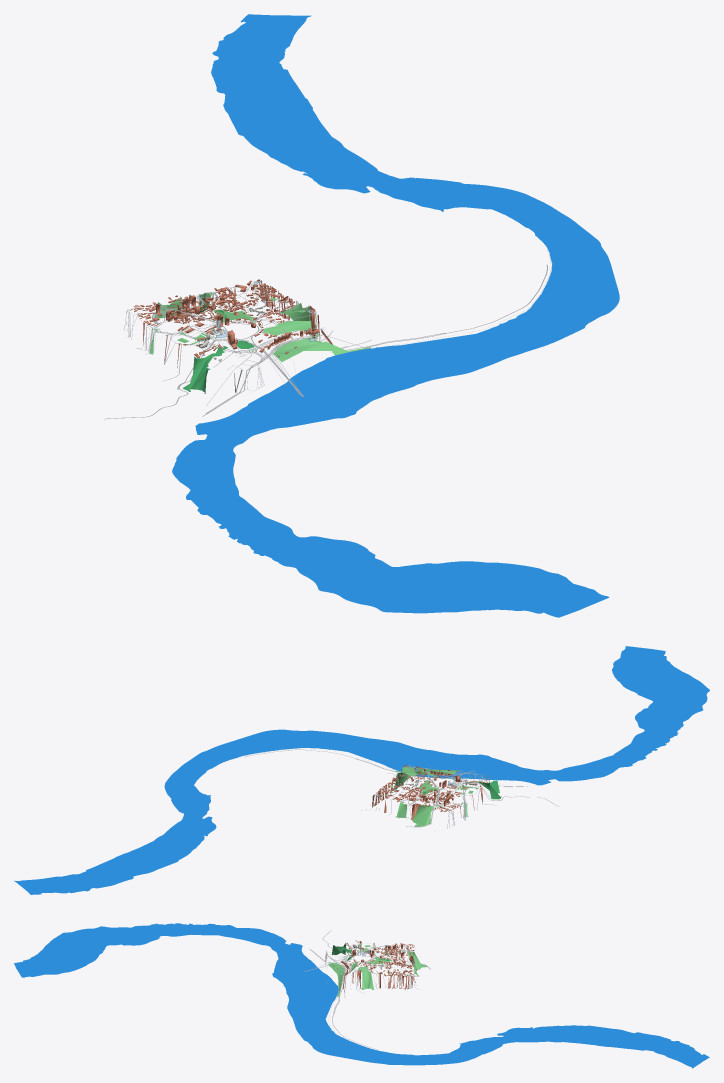
The model's file is output_soil.glb.
3 renders of one model, top to bottom at view 1: azimuth 30°, elevation 25°; view 2: azimuth 150°, elevation 25°; view 3: azimuth 270°, elevation 25°, orthographic. The views are drawn at different scales.
Parts seen in each view (by area): view 1: water/9087399; view 2: water/9087399; view 3: water/9087399.
Boxes of the visible parts, left/top/right/bottom form: water/9087399: left=172, top=14, right=619, bottom=617; water/9087399: left=14, top=646, right=709, bottom=894; water/9087399: left=14, top=923, right=709, bottom=1068.
Bounding box in the file's own units: 6478 × 378 × 13106.
